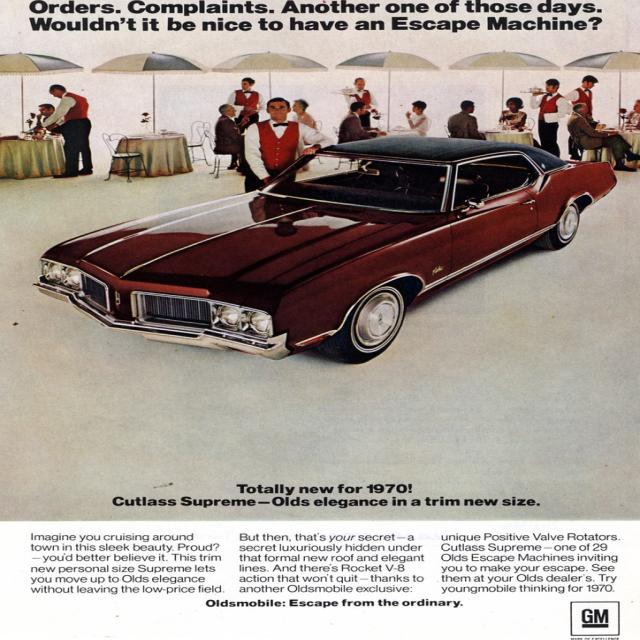car: (32, 130, 605, 364)
